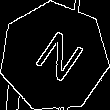N_SW: (24, 25, 84, 89)
